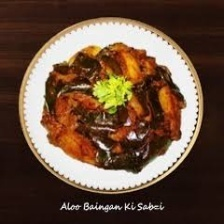sabzi: (38, 37, 188, 180)
